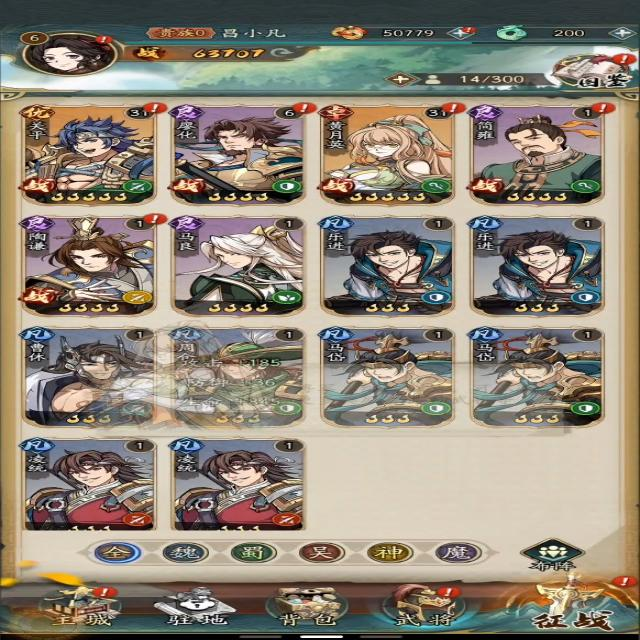hint-reddot: (440, 100, 470, 118), (588, 101, 619, 116), (608, 574, 640, 588), (434, 584, 463, 598), (288, 102, 316, 116), (140, 101, 166, 115), (90, 586, 120, 598), (608, 53, 636, 64), (141, 212, 164, 225), (93, 32, 114, 46), (460, 24, 478, 34)
navigation-bag: (260, 583, 362, 629)
navigation-fight: (504, 570, 640, 631)
navigation-hero: (380, 581, 469, 628)
navigation-main: (29, 583, 131, 631)
navigation-myHeroes: (166, 212, 308, 318), (170, 324, 308, 432), (19, 101, 158, 207), (319, 102, 460, 206), (21, 323, 158, 430), (474, 100, 609, 208), (22, 214, 161, 318), (172, 104, 308, 209), (167, 436, 313, 533), (317, 328, 458, 428), (169, 214, 307, 316), (319, 215, 458, 315), (466, 327, 606, 424), (17, 436, 158, 532), (469, 216, 607, 312)
navigation-role: (17, 27, 130, 77)
navigation-station-off: (154, 583, 241, 630)
operation-camp: (362, 539, 415, 564), (295, 540, 346, 564), (156, 541, 208, 564), (93, 542, 142, 566), (230, 541, 276, 564), (434, 542, 482, 564)
operation-deployment: (516, 537, 587, 573)
operation-gallery: (550, 51, 636, 91)
